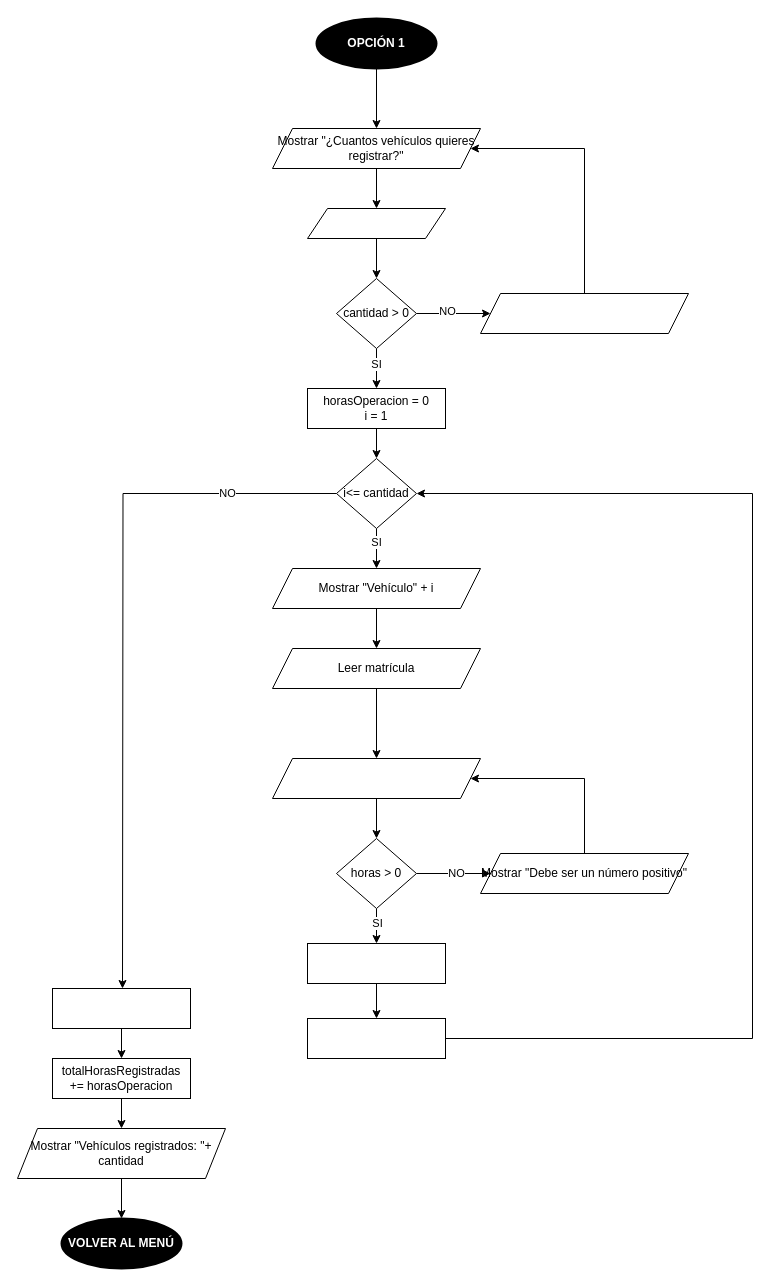
The diagram is 778 pixels wide and 1286 high, and some of its shapes have lost their labels. The shapes that lost their labels are listed below. From the top down, each one's centre as x and y in pixels, then its label:
the point at 376,223: Leer cantidad
the point at 584,313: Mostrar "Debe ser un número positivo."
the point at 376,778: Leer horas
the point at 376,963: horasOperacion += horas
the point at 121,1008: totalVehiculos += cantidad
the point at 376,1038: i++
